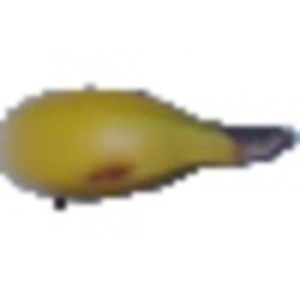banana: (2, 76, 293, 201)
